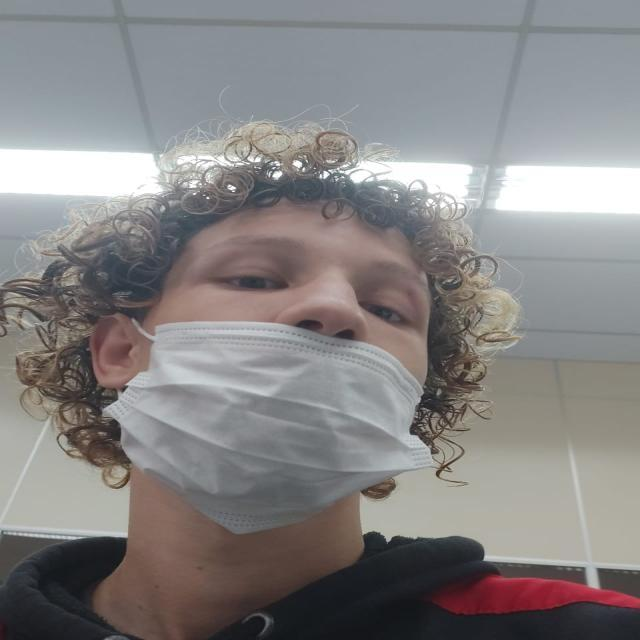hairnet: (172, 195, 419, 470)
